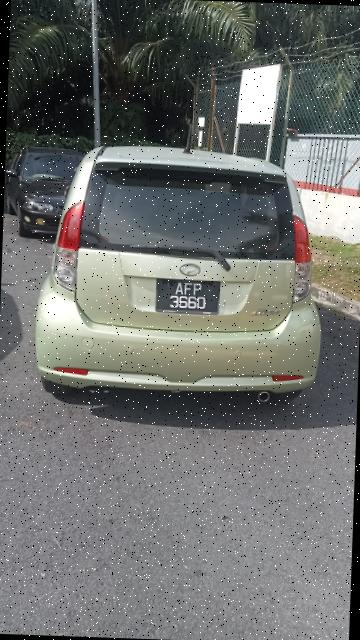License_Plate: (160, 281, 219, 314)
